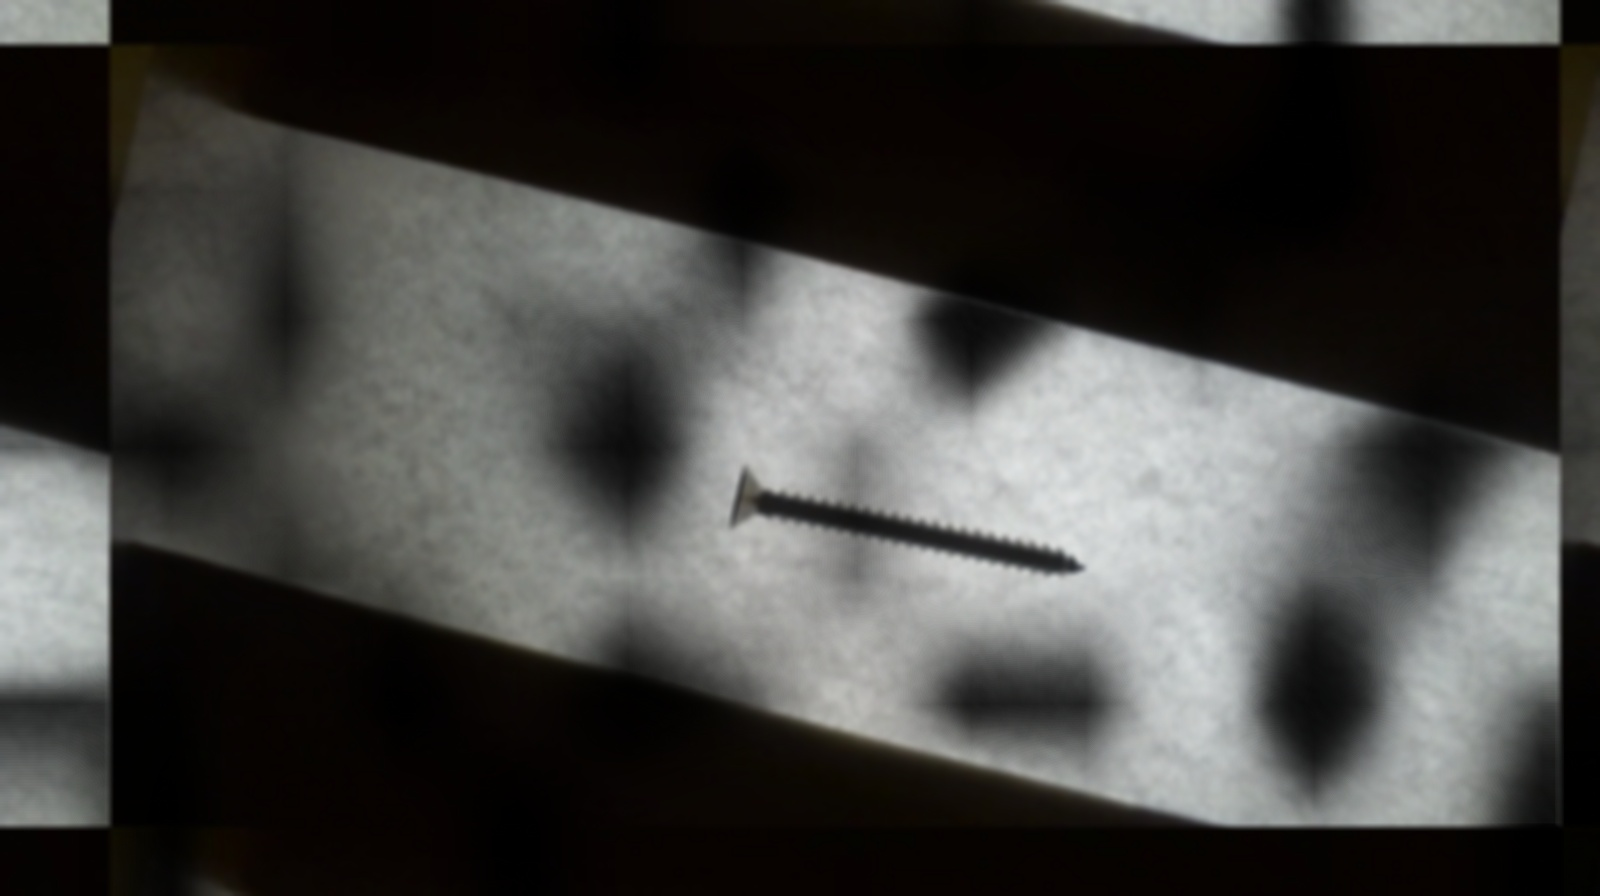S002: (727, 460, 1087, 584)
